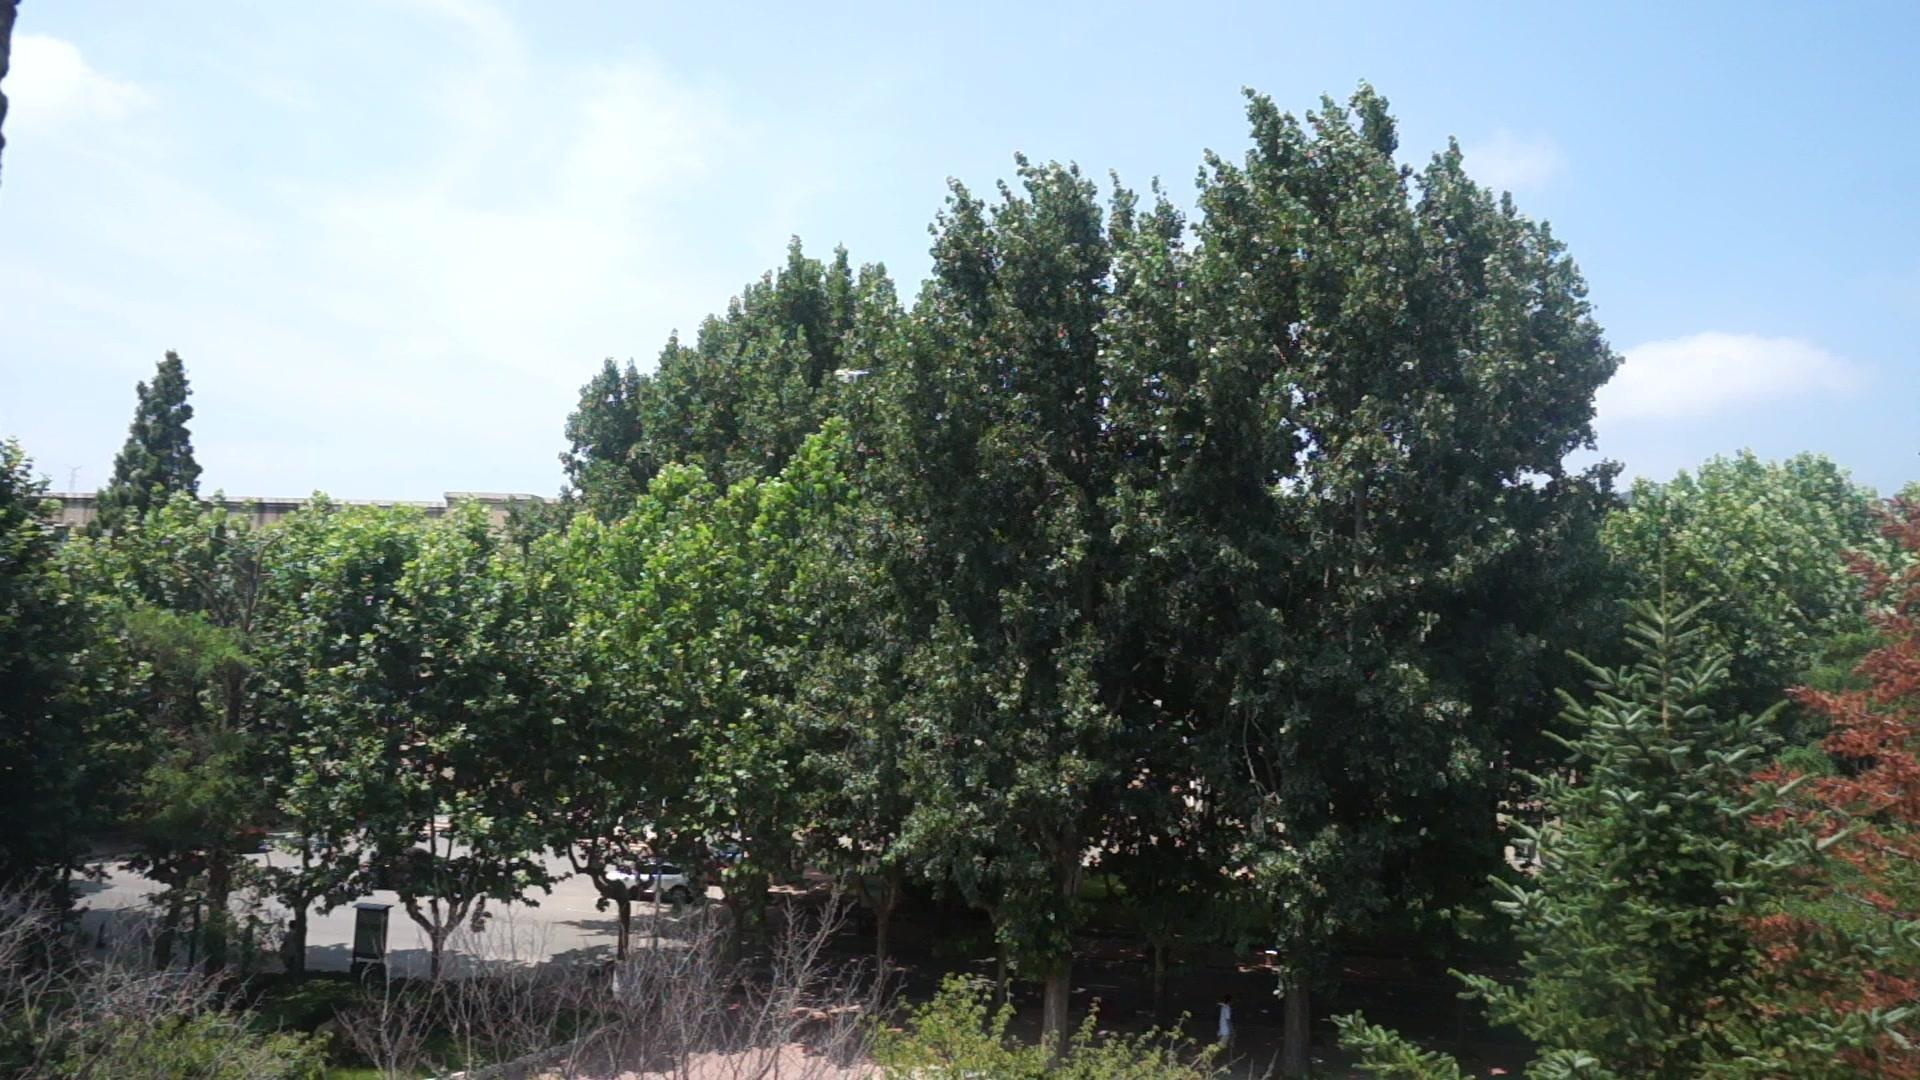UAV: (833, 371, 870, 384)
